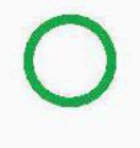RadioButton: (1, 1, 139, 147)
